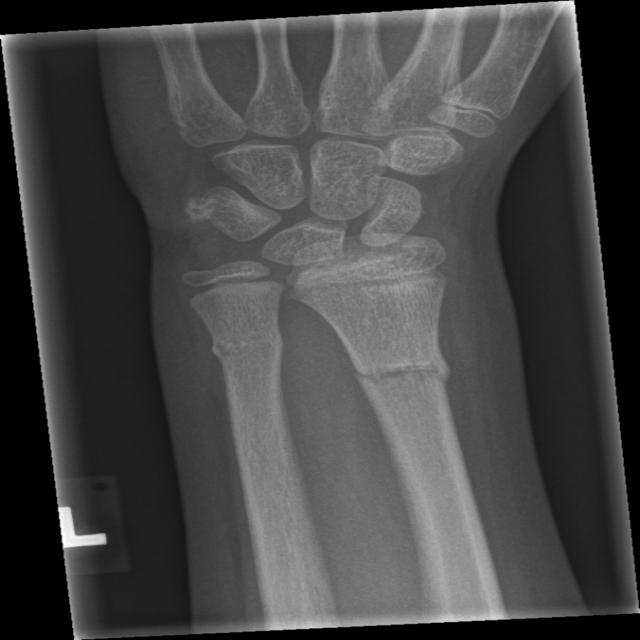radius fracture: (329, 340, 478, 410)
ulna fracture: (209, 308, 308, 401)
